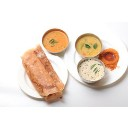dosa: (21, 47, 62, 100)
